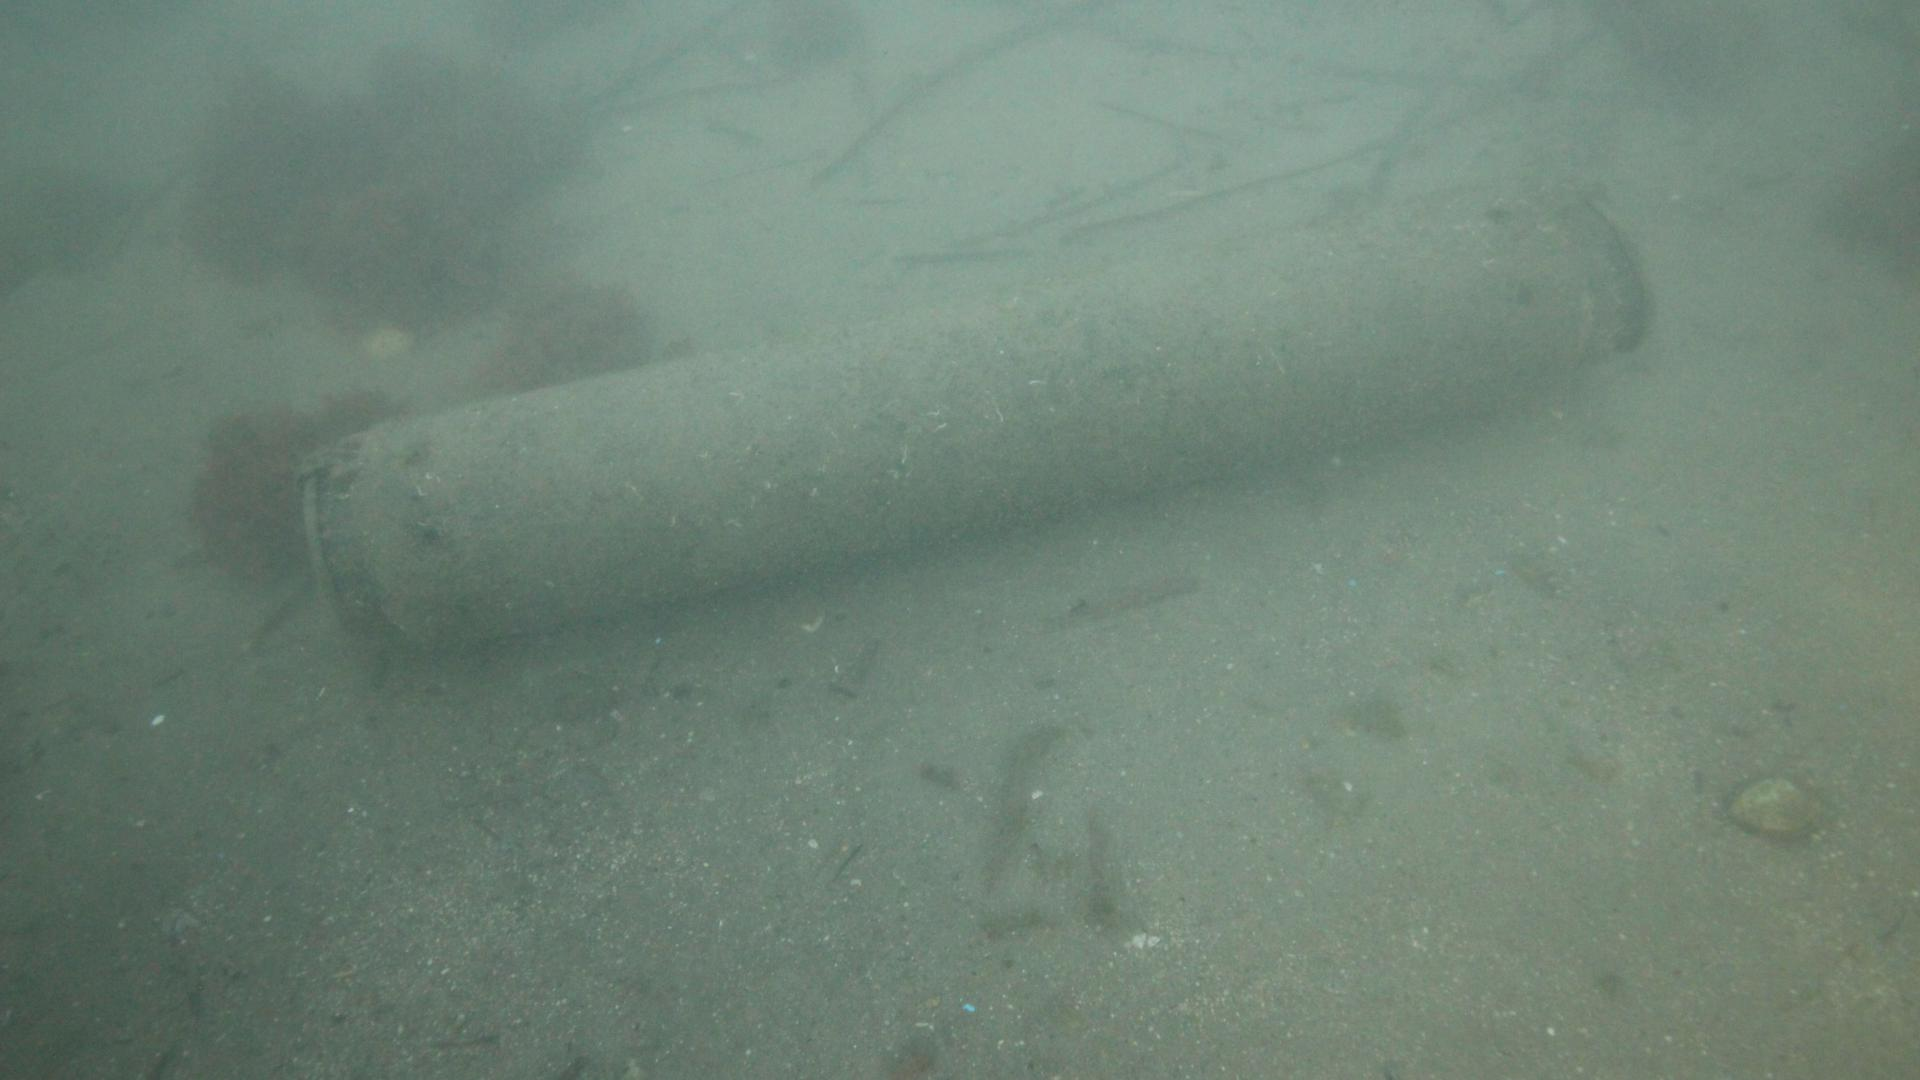eel fish trap: (302, 171, 1650, 654)
